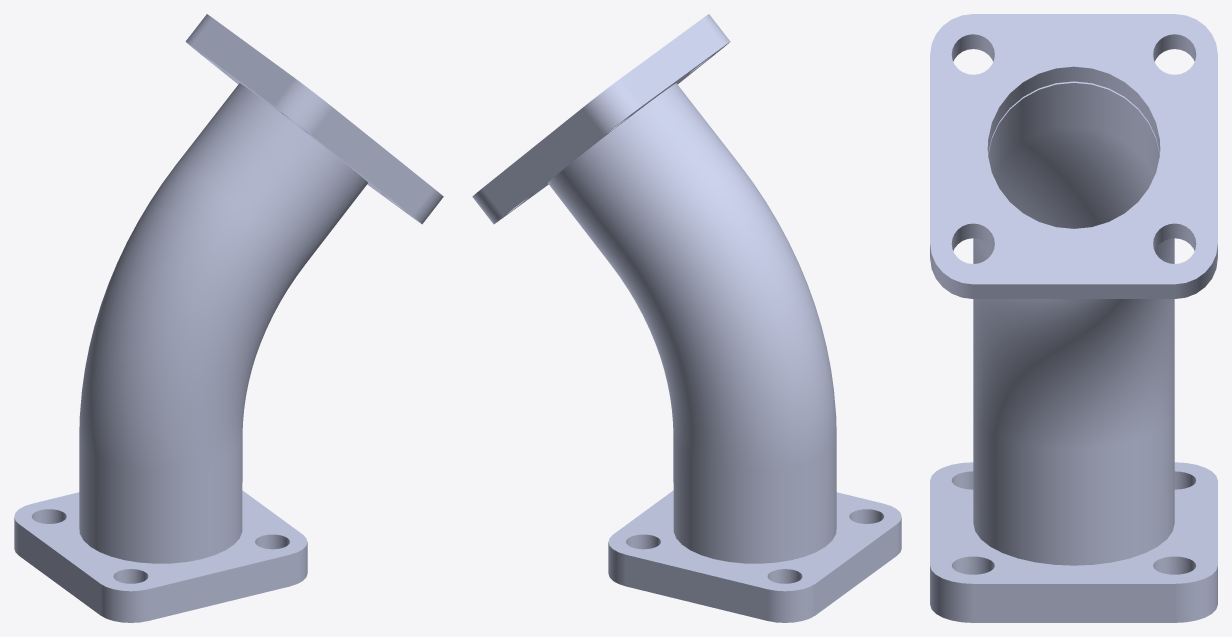
Rendered from tubo_con_placas_cuadradas.glb.
3 views of the same model, side by side, from view 1: azimuth 30°, elevation 25°; view 2: azimuth 150°, elevation 25°; view 3: azimuth 270°, elevation 25° (orthographic). The views are drawn at different scales.
Visible parts, largest first — view 1: tubo con placas cuadradas; view 2: tubo con placas cuadradas; view 3: tubo con placas cuadradas.
Boxes of the visible parts, x1,y1,x2,y2 form: tubo con placas cuadradas: (14,14,443,622); tubo con placas cuadradas: (472,14,901,622); tubo con placas cuadradas: (930,14,1217,622).
Size of the model in its own units: 0.1667 by 0.2317 by 0.1.
